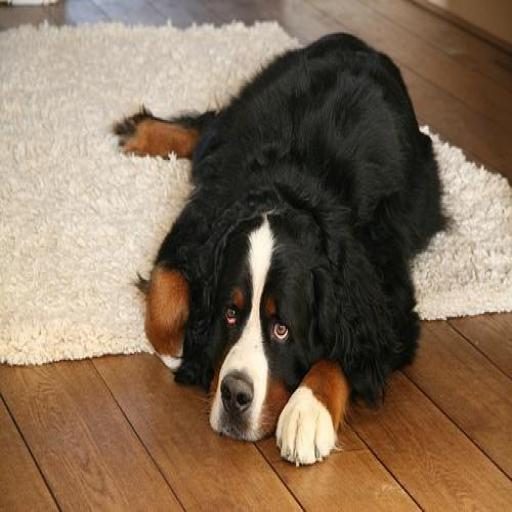dog_face: (191, 204, 323, 440)
